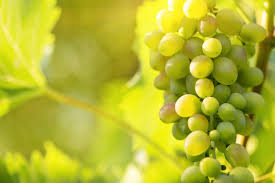grapes: (149, 8, 255, 183)
